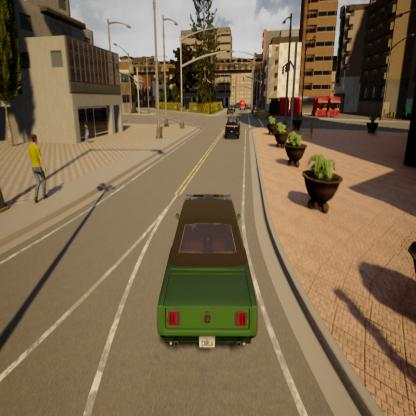Cars: (155, 190, 259, 353), (224, 116, 240, 138), (239, 98, 246, 110), (227, 107, 234, 114)
Pedestrian: (28, 132, 51, 204), (83, 125, 92, 149)
